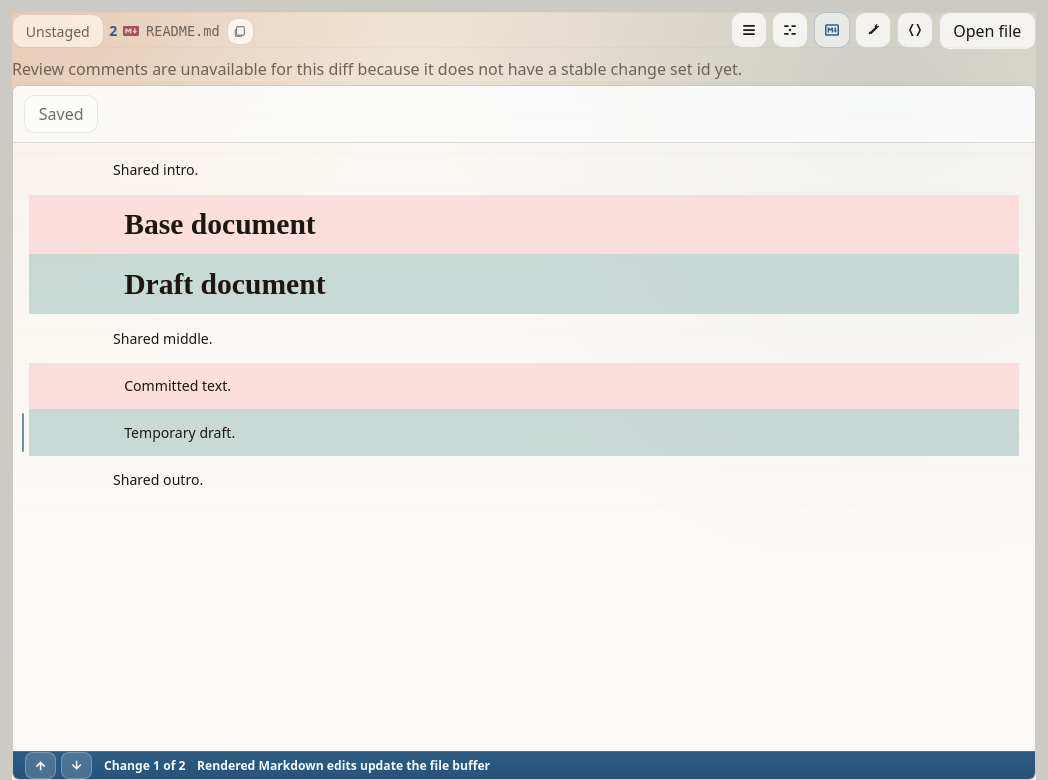
Test: DiffPanel › cancels an uncommitted rendered Markdown section edit with Escape
The width and height of the screenshot is (1048, 780).
Clear the field labelled "Temporary draft." at (524, 433), box [29,410,1019,456]
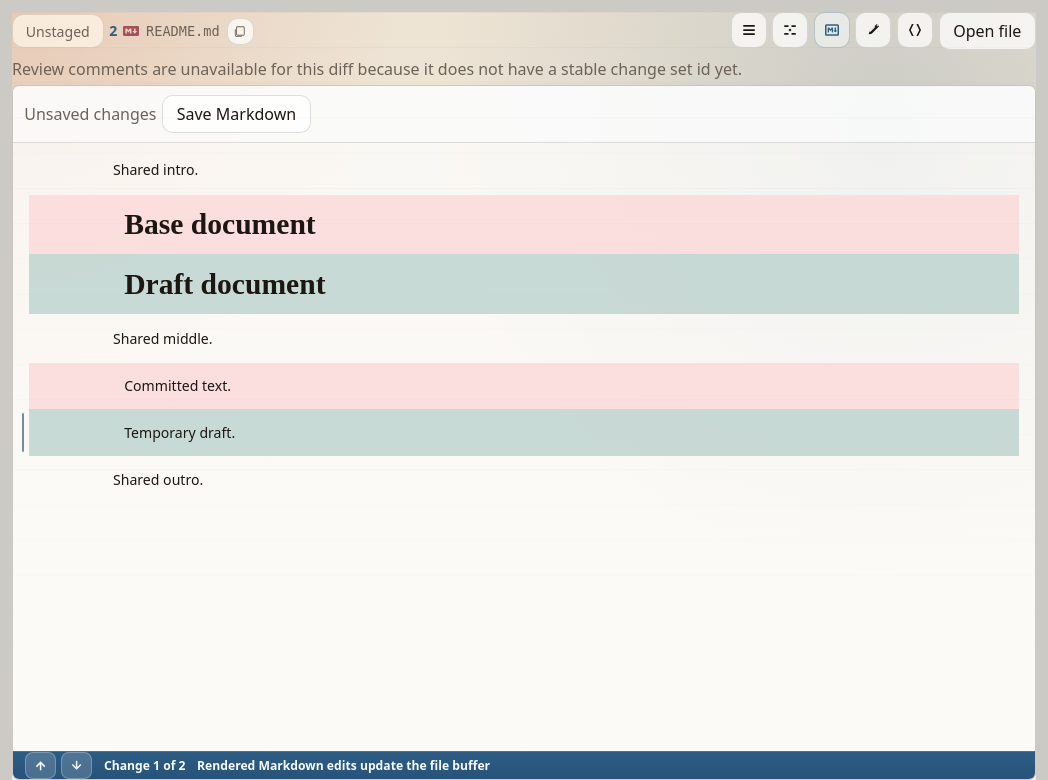
Expected: the button "Save Markdown" is enabled, [162,95,311,133]
Press Escape in the field labelled "Temporary draft.", box [29,410,1019,456]
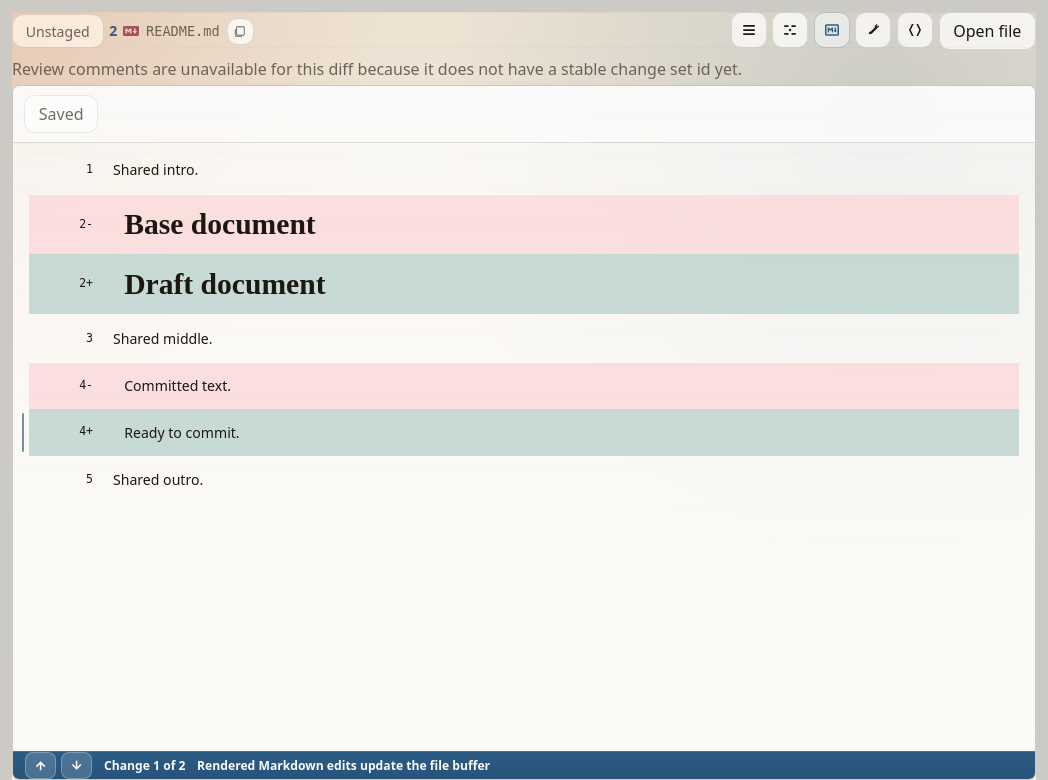
Expected: the button "Saved" is disabled, [24,95,98,133]
Expected: the text "Temporary draft." is gone
